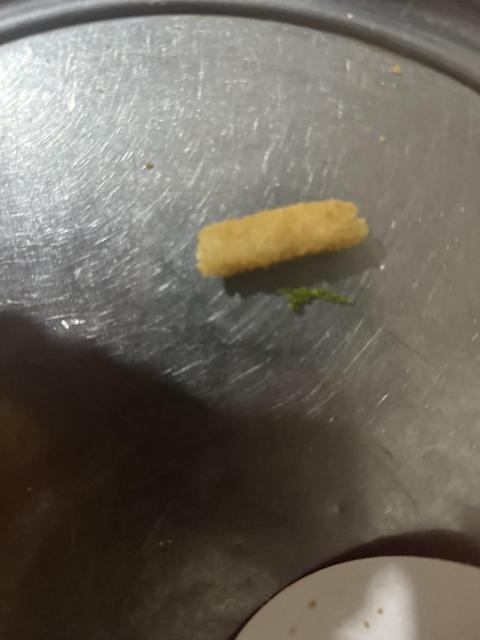Organik: (181, 195, 378, 275), (270, 276, 346, 316)
